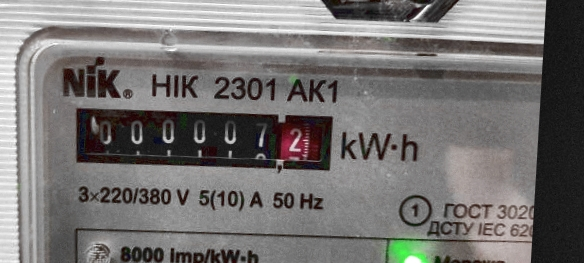0: (95, 117, 114, 145), (189, 116, 208, 144), (158, 115, 176, 144), (127, 117, 145, 145), (221, 117, 238, 146)
2: (286, 126, 304, 153)
7: (252, 118, 269, 149)
screen: (61, 94, 345, 182)
